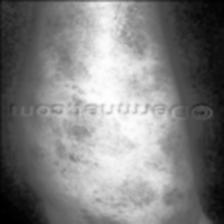Non-Cancerous Skin Condition: (44, 0, 166, 100), (58, 116, 130, 163), (93, 174, 155, 206)
